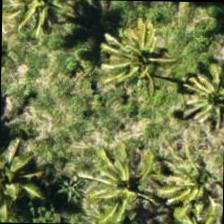Kelapa_Sawit: (89, 8, 181, 100), (72, 133, 165, 223), (147, 126, 223, 218), (169, 47, 223, 139), (0, 139, 47, 223)
